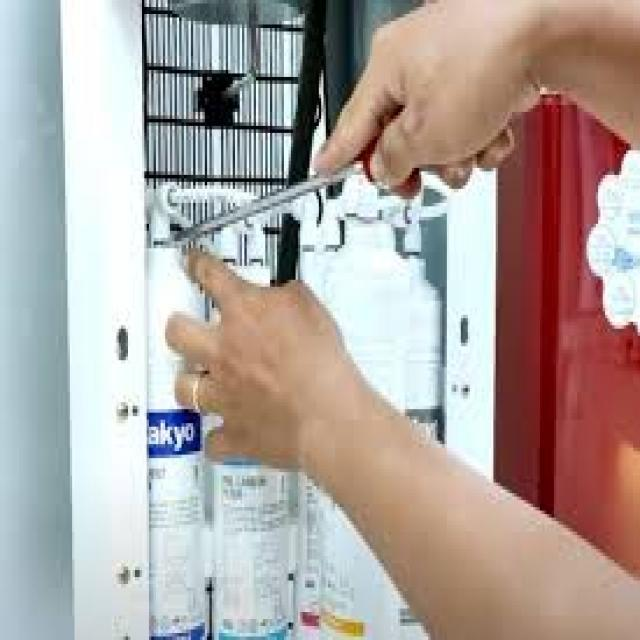screwdriver: (173, 118, 497, 246)
